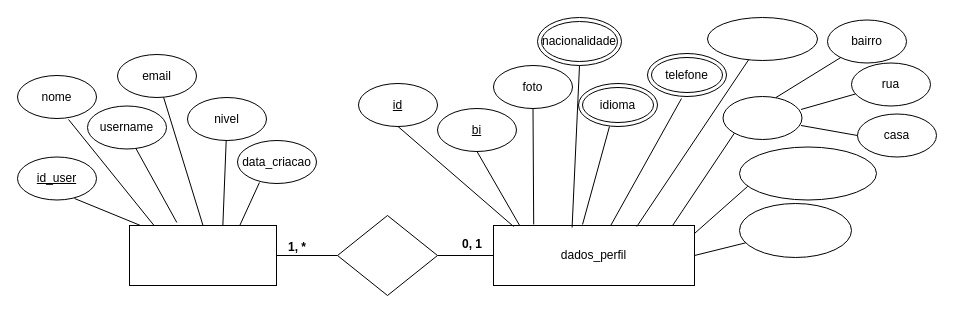
Image size: 954x313. Some labels were removed from this diagram. The box of each missing label's shape, as (x1, y1, x2, y2) in pixels:
data_nascimento: (706, 16, 818, 60)
endereco: (722, 96, 802, 140)
experiencia_profissional: (738, 146, 876, 200)
gere: (336, 214, 438, 296)
habiliacao_literaria: (738, 202, 852, 258)
user: (128, 224, 276, 286)
